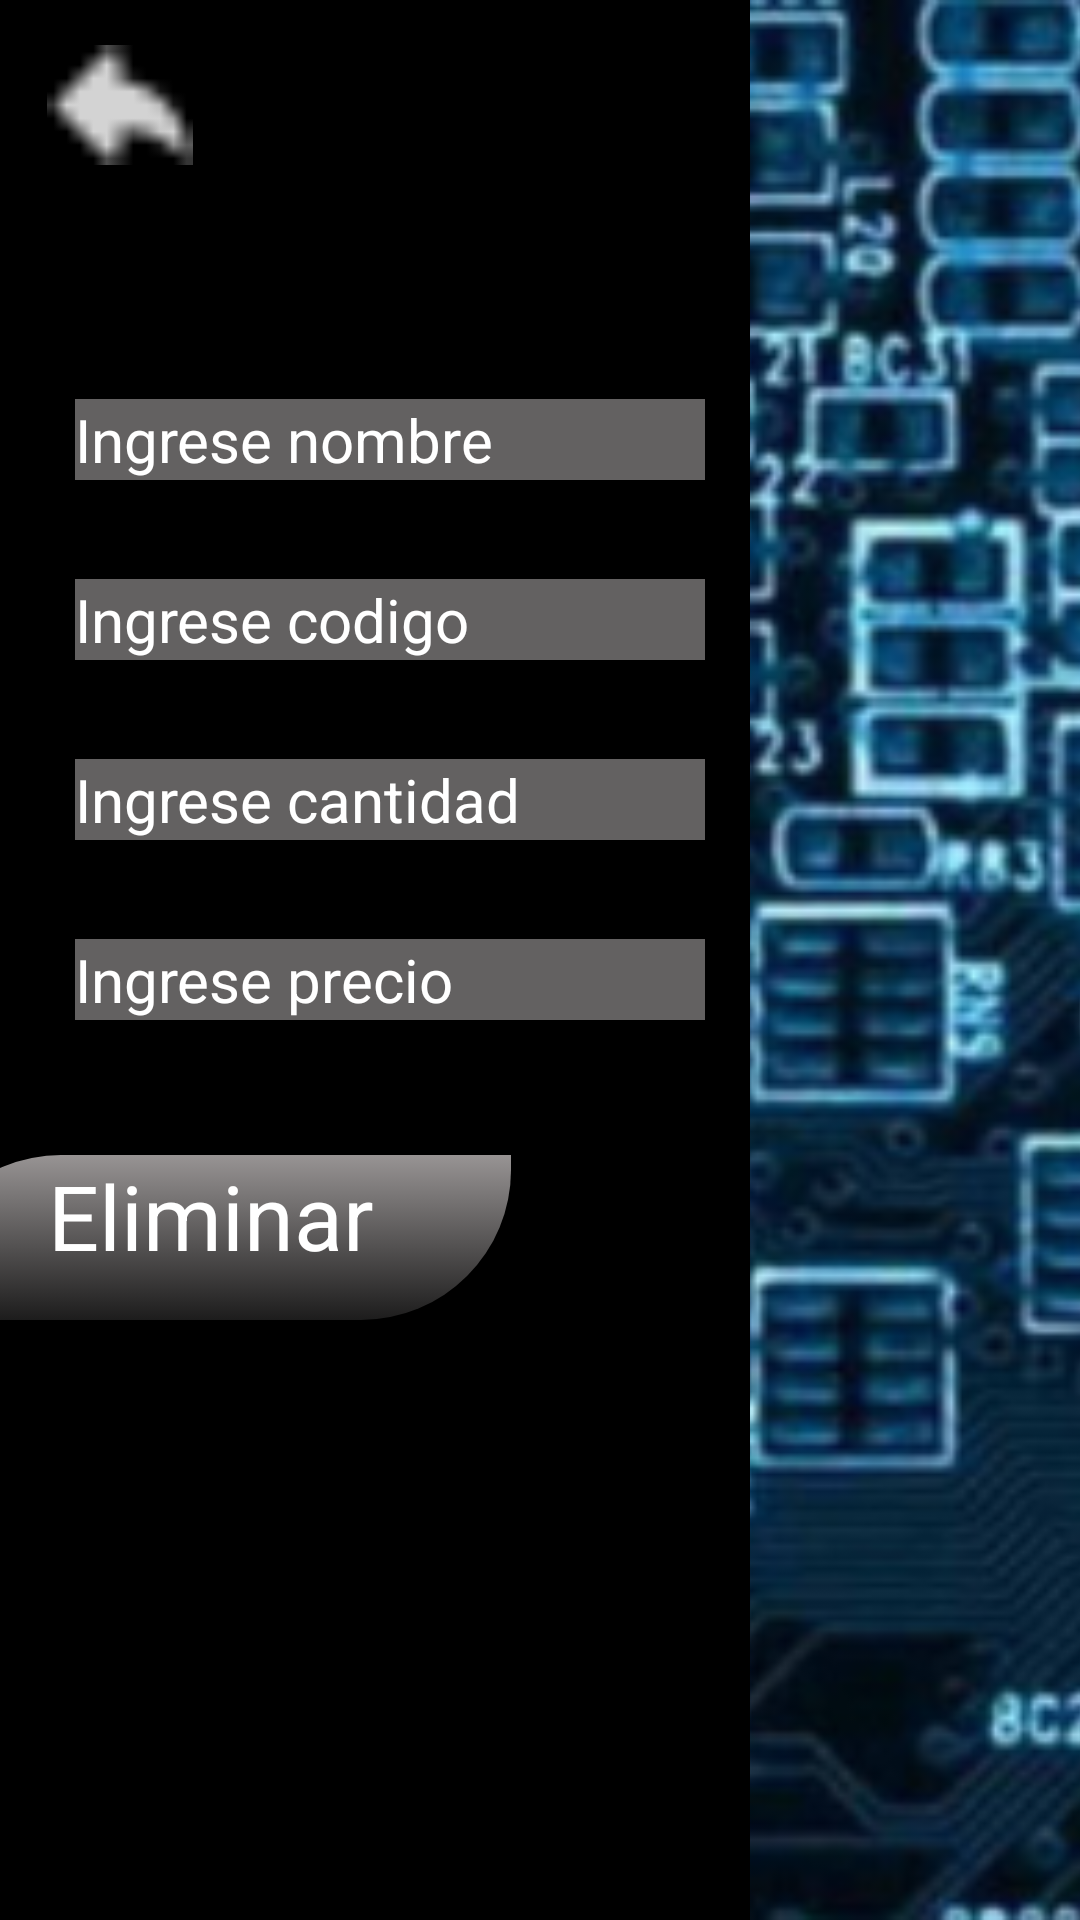

Point at icon controls on the screen. Image size 1080 × 1920, points as (x=x, y=y).
flecha: (x=120, y=105)
